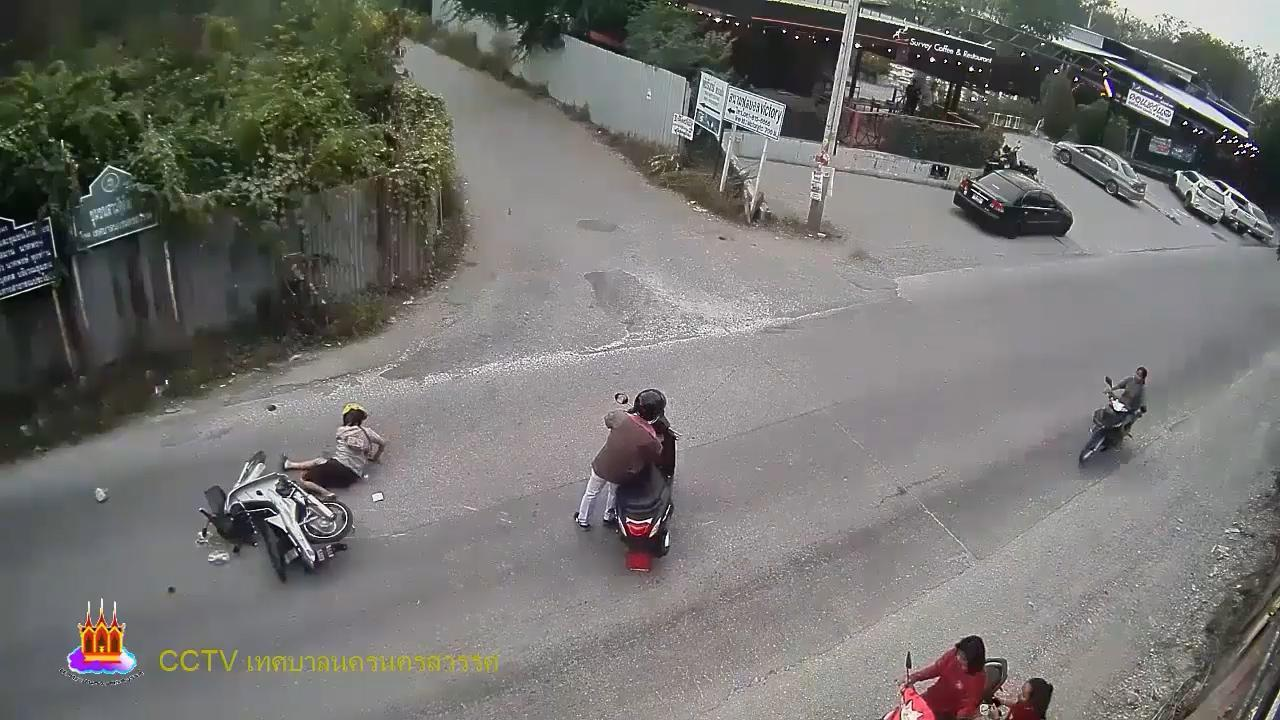accident: (282, 403, 386, 504)
